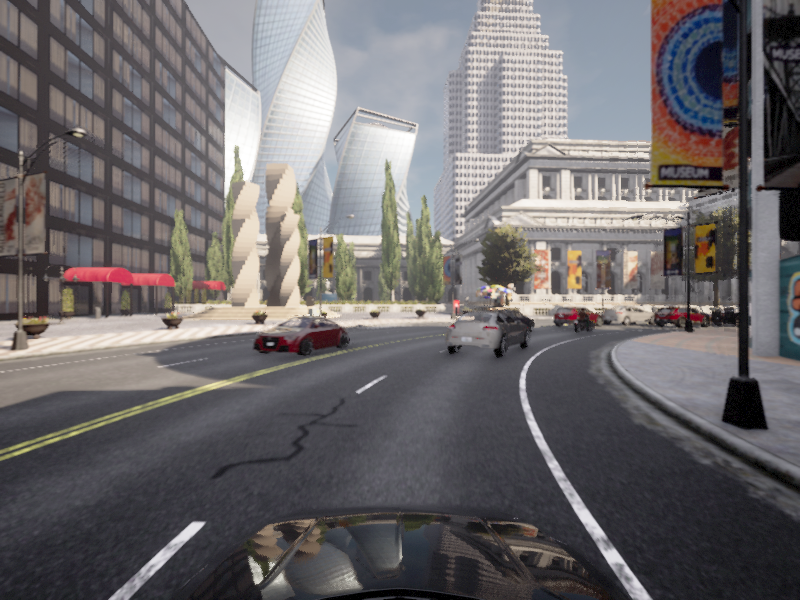vehicle: (246, 314, 353, 360), (438, 309, 532, 361), (472, 308, 538, 335), (706, 306, 781, 326), (648, 306, 715, 328), (548, 305, 607, 328), (597, 305, 659, 326), (651, 308, 719, 324), (569, 307, 598, 333)
